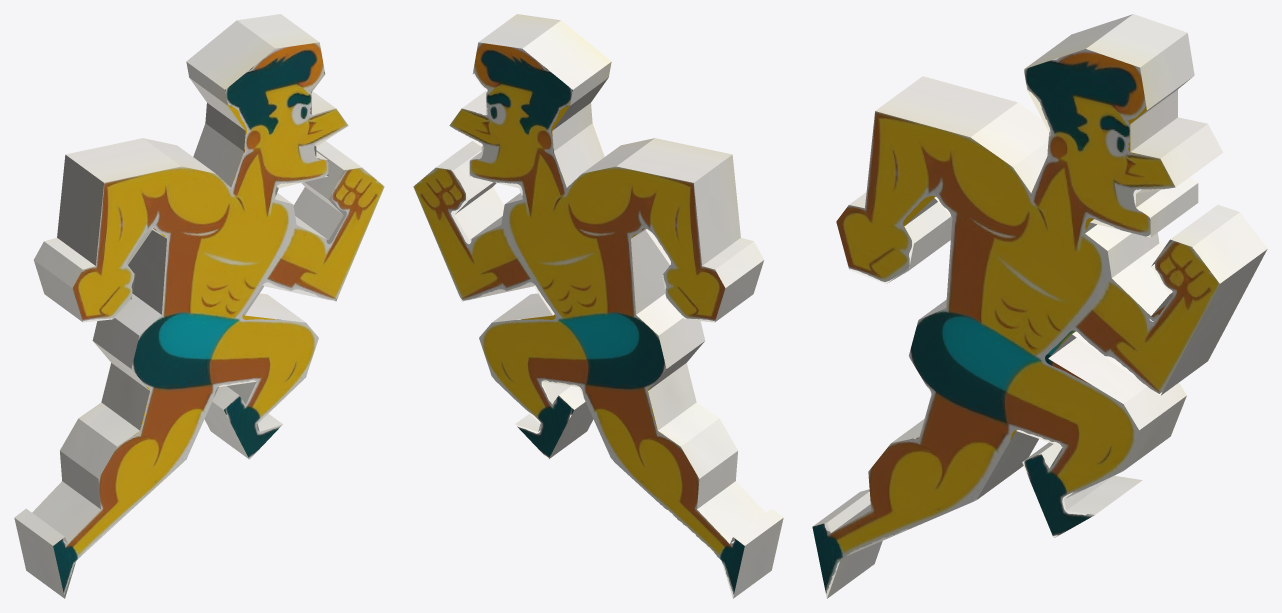
File: SpeedBuff.fbx
3 renders of one model, left to right at view 1: azimuth 30°, elevation 25°; view 2: azimuth 150°, elevation 25°; view 3: azimuth 330°, elevation 25°, orthographic. The views are drawn at different scales.
Parts seen in each view (by area): view 1: SpeedBuff; view 2: SpeedBuff; view 3: SpeedBuff.
Boxes of the visible parts, x1,y1,x2,y2 form: SpeedBuff: [14, 14, 384, 598]; SpeedBuff: [413, 14, 783, 598]; SpeedBuff: [812, 14, 1267, 598].
Bounding box in the file's own units: 24.66 × 35.46 × 5.
